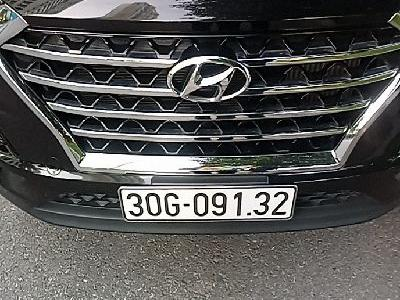car: (118, 182, 299, 226)
